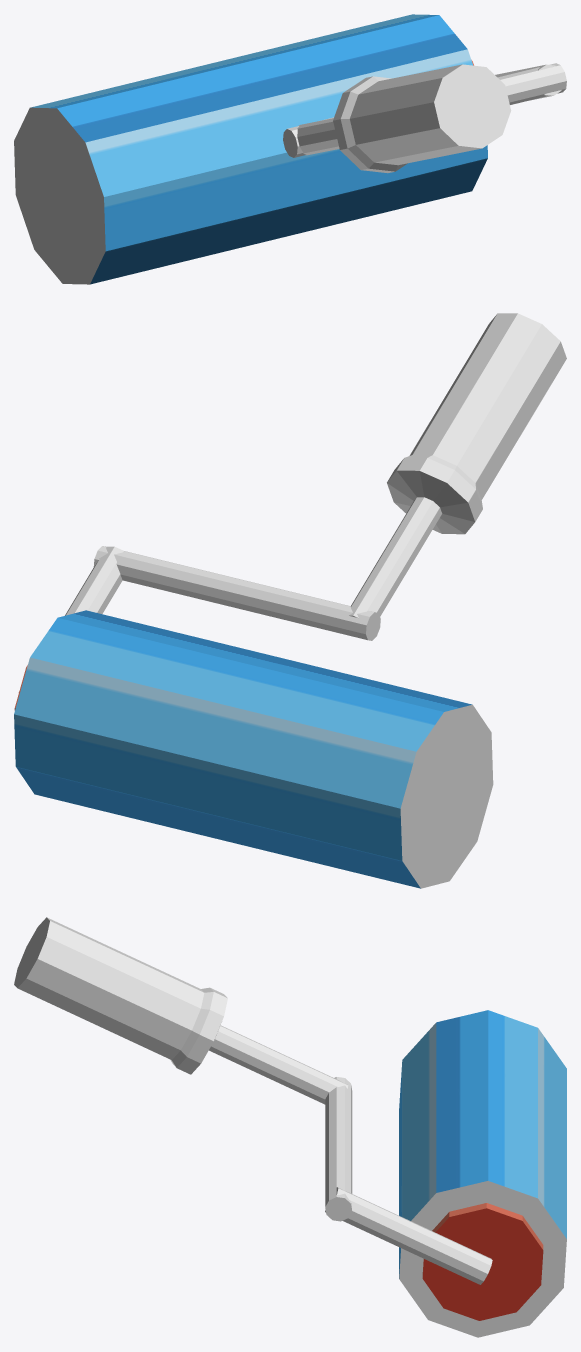
Rendered from Roller.fbx.
3 renders of one model, top to bottom at view 1: azimuth 30°, elevation 25°; view 2: azimuth 150°, elevation 25°; view 3: azimuth 270°, elevation 25°, orthographic. The views are drawn at different scales.
Visible parts, largest first — view 1: Roller Tilted.002, Roller Tilted.001; view 2: Roller Tilted.002, Roller Tilted.001; view 3: Roller Tilted.002, Roller Tilted.001.
Boxes of the visible parts, x1,y1,x2,y2 form: Roller Tilted.002: (14, 14, 487, 284); Roller Tilted.001: (283, 63, 566, 173); Roller Tilted.002: (14, 610, 493, 888); Roller Tilted.001: (18, 313, 566, 692); Roller Tilted.002: (399, 1010, 566, 1337); Roller Tilted.001: (14, 917, 492, 1284).
Bounding box in the file's own units: 513 × 408 × 638.
